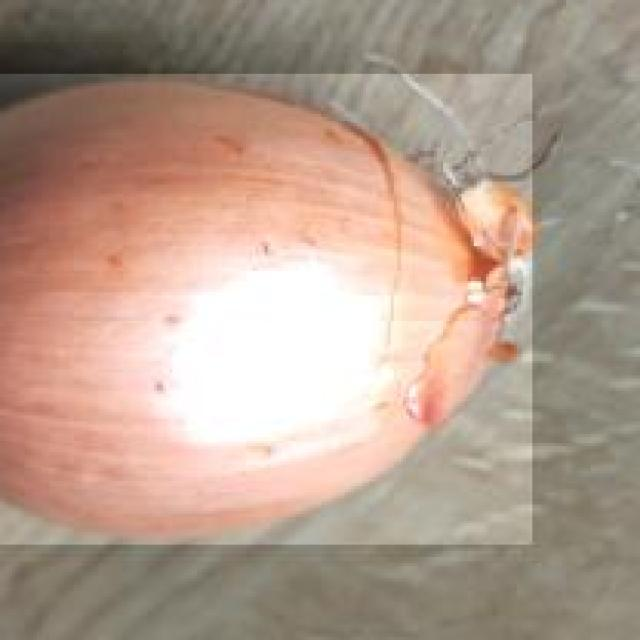onion: (0, 70, 535, 544)
